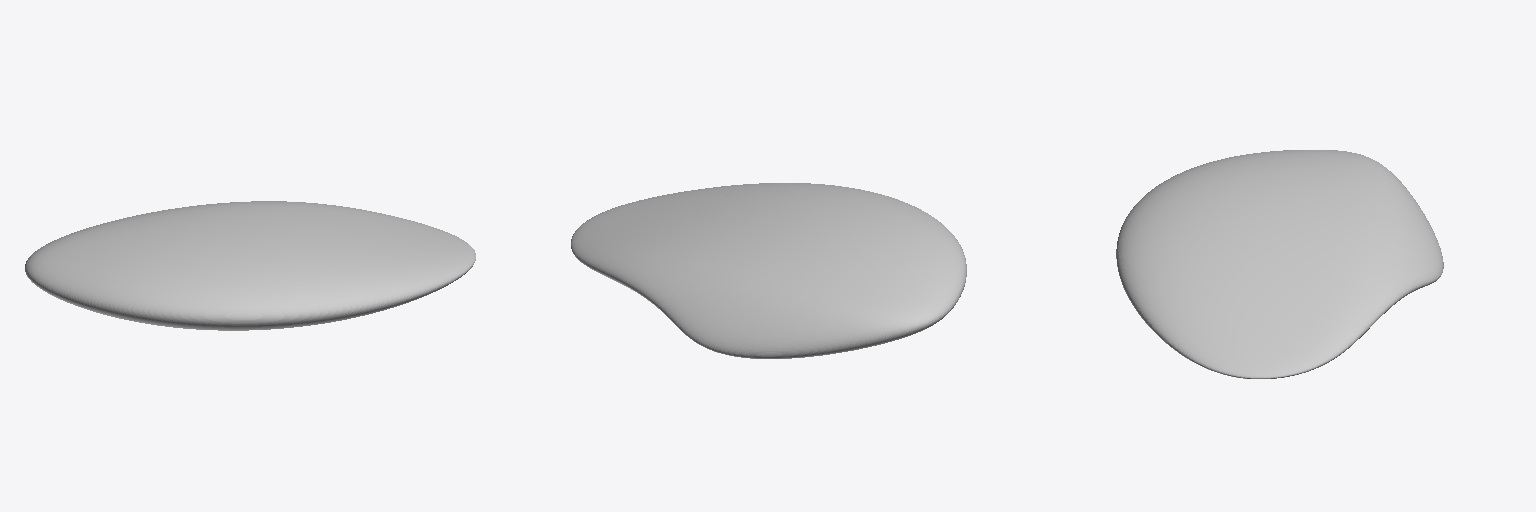
The picture shows the model from 3 angles: view 1: azimuth 30°, elevation 25°; view 2: azimuth 150°, elevation 25°; view 3: azimuth 270°, elevation 25°; orthographic projection.
Parts seen in each view (by area): view 1: Quad_Sphere; view 2: Quad_Sphere; view 3: Quad_Sphere.
Boxes of the visible parts, x1=… form: Quad_Sphere: x1=25, y1=201, x2=475, y2=330; Quad_Sphere: x1=571, y1=183, x2=966, y2=358; Quad_Sphere: x1=1116, y1=150, x2=1443, y2=378.
Bounding box in the file's own units: 3.55 × 0.5694 × 2.55.